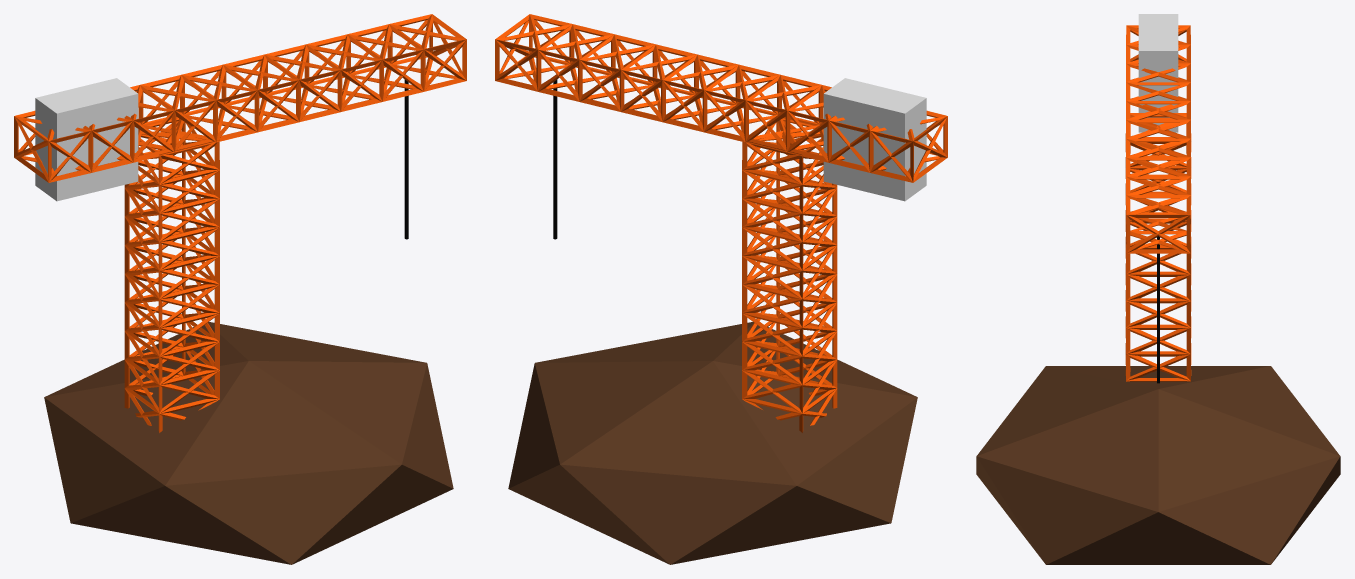
Rendered from Uitdagingen.glb.
3 views of the same model, side by side, from view 1: azimuth 30°, elevation 25°; view 2: azimuth 150°, elevation 25°; view 3: azimuth 270°, elevation 25° (orthographic). The views are drawn at different scales.
Visible parts, largest first — view 1: Icosphere.001, boom, Cube.025, contragewicht, kabel; view 2: Icosphere.001, boom, Cube.025, contragewicht, kabel; view 3: Icosphere.001, boom, Cube.025, contragewicht.
Boxes of the visible parts, <box> form: Icosphere.001: <box>44,322,453,564</box>; boom: <box>14,14,466,182</box>; Cube.025: <box>124,118,219,432</box>; contragewicht: <box>35,78,138,201</box>; kabel: <box>404,79,408,239</box>; Icosphere.001: <box>508,322,917,564</box>; boom: <box>495,14,947,182</box>; Cube.025: <box>742,118,837,432</box>; contragewicht: <box>823,78,926,201</box>; kabel: <box>553,79,557,239</box>; Icosphere.001: <box>976,366,1340,564</box>; boom: <box>1126,25,1190,253</box>; Cube.025: <box>1125,113,1191,381</box>; contragewicht: <box>1138,14,1178,132</box>.
Bounding box in the file's own units: 3.35 × 3.58 × 2.71.
